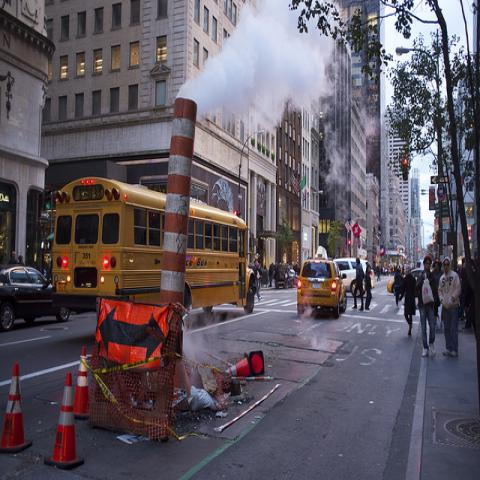bus: (52, 177, 258, 317)
car: (0, 264, 70, 335), (297, 260, 347, 319), (336, 258, 376, 295), (388, 268, 425, 295), (276, 264, 294, 288)
